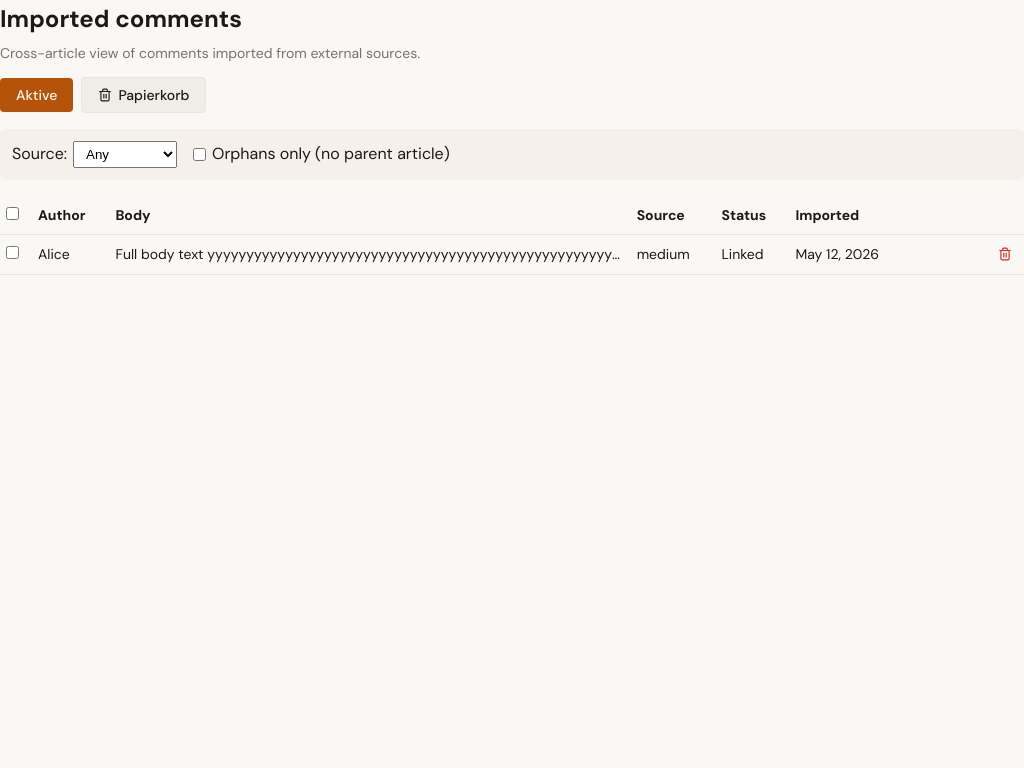
Test: CommentsAdminSection preview modal + row truncation › clicking a row opens the CommentPreviewModal with the full body
This screenshot has width=1024, height=768.
Click the row with test id "comments-admin-row-row-X": [512, 254] box top-left (0, 235), bottom-right (1023, 274)
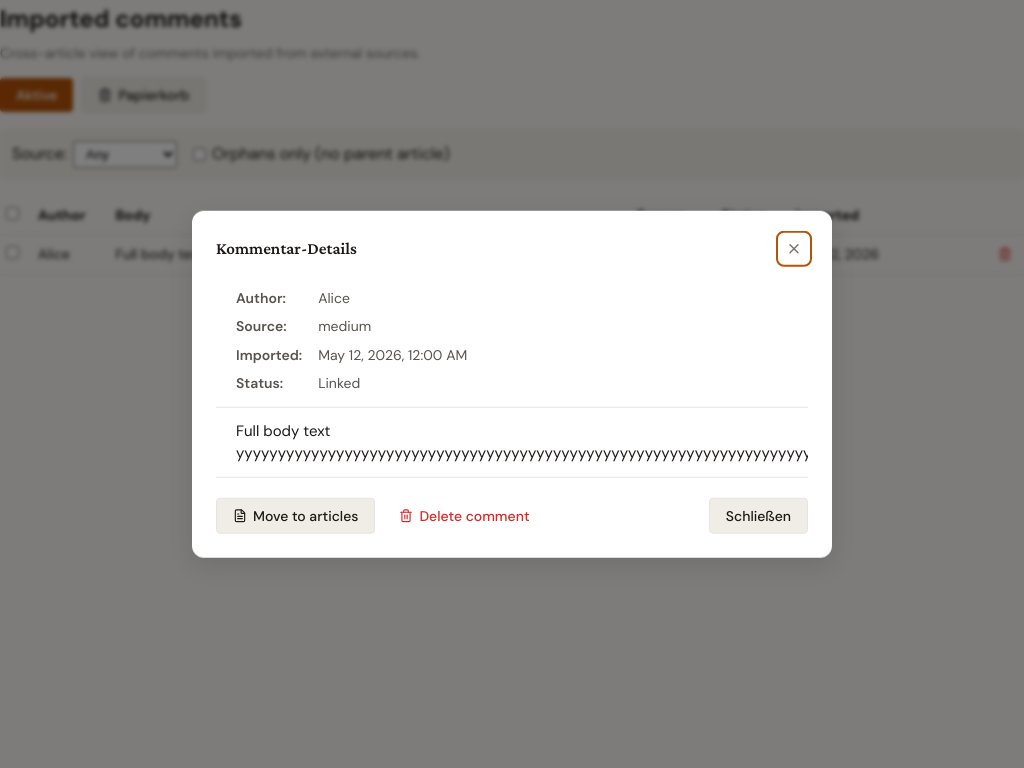
expect the dialog with test id "comment-preview-modal" is shown: met, box top-left (192, 211), bottom-right (832, 557)
